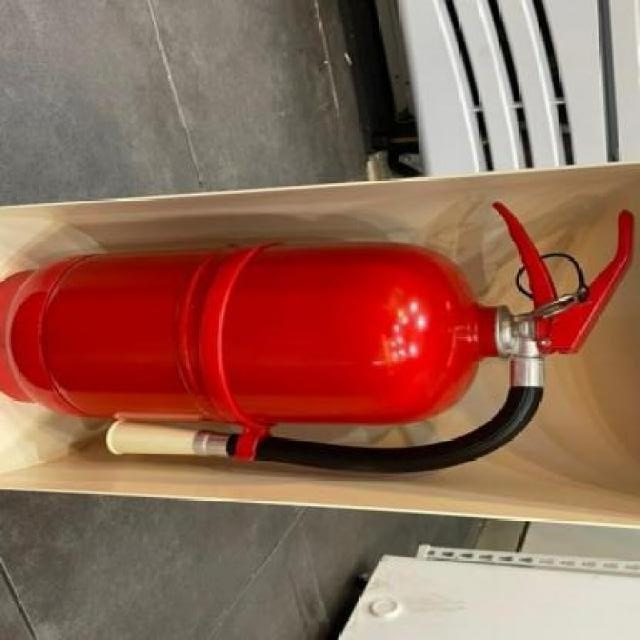fire extinguisher: (0, 202, 636, 474)
